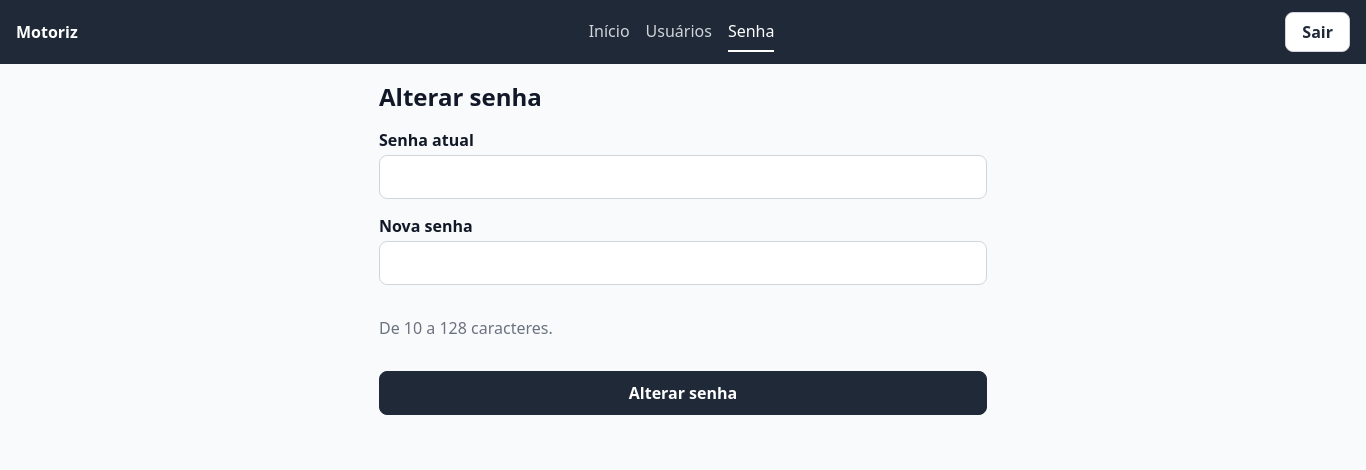
Test: AlterarSenha › senha atual incorreta (422) aparece como erro do formulário, sem derrubar a sessão
Type "errada-errada" into the password field labelled "Senha atual" at (683, 177), box [379, 155, 987, 199]
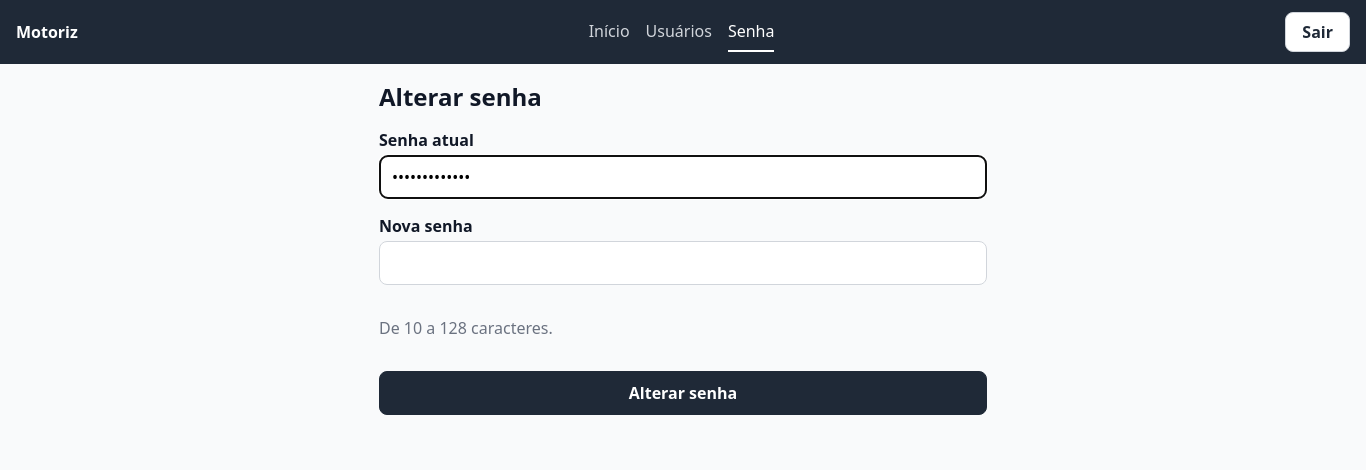
Type "nova-senha-123" into the password field labelled "Nova senha" at (683, 263), box [379, 241, 987, 285]
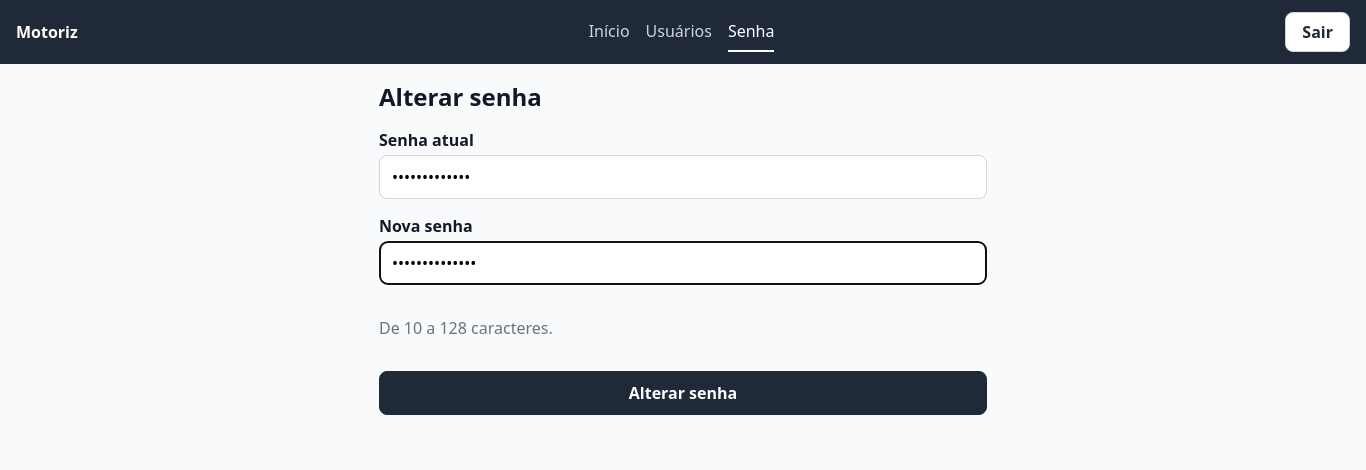
Click the button "Alterar senha" at (683, 393), box [379, 371, 987, 415]
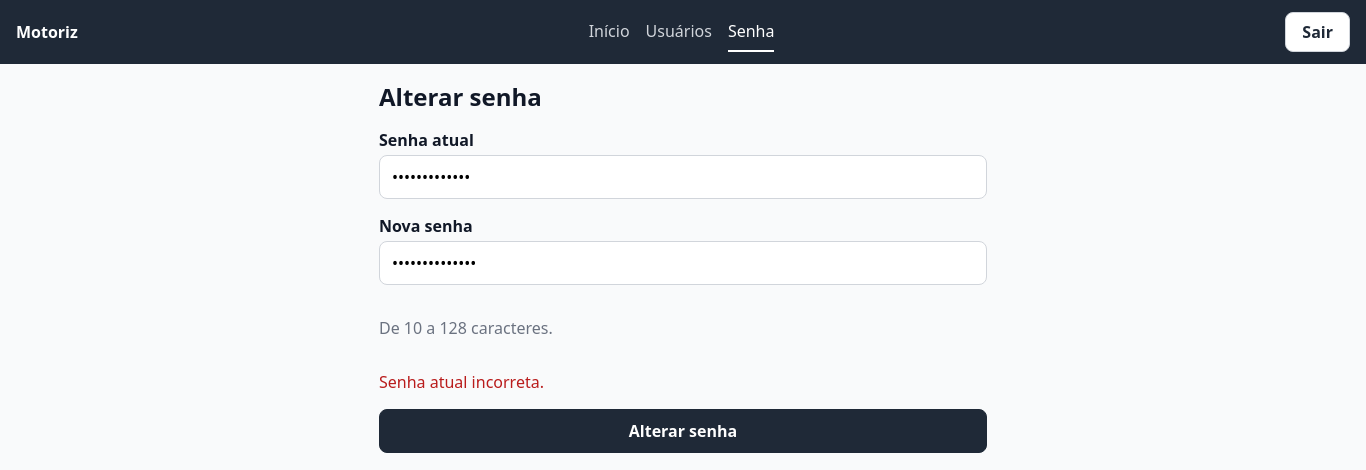
Expected: the text "Senha atual incorreta." is shown, [379, 371, 544, 393]
